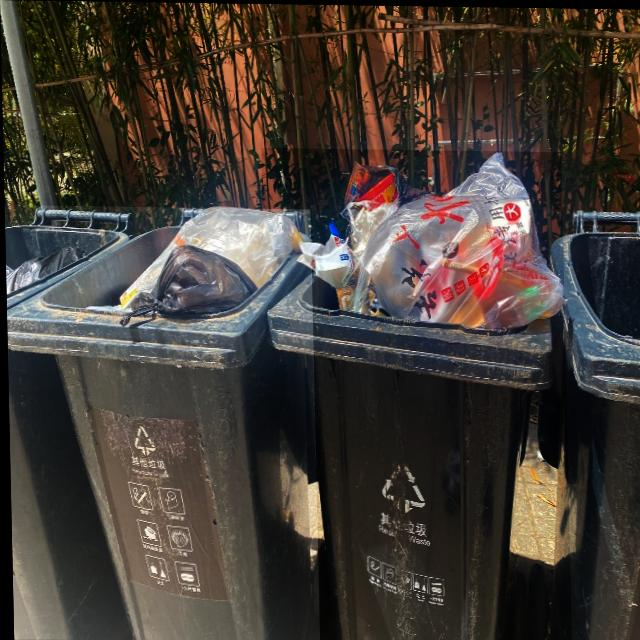overflow: (261, 147, 569, 640), (4, 205, 317, 640)
